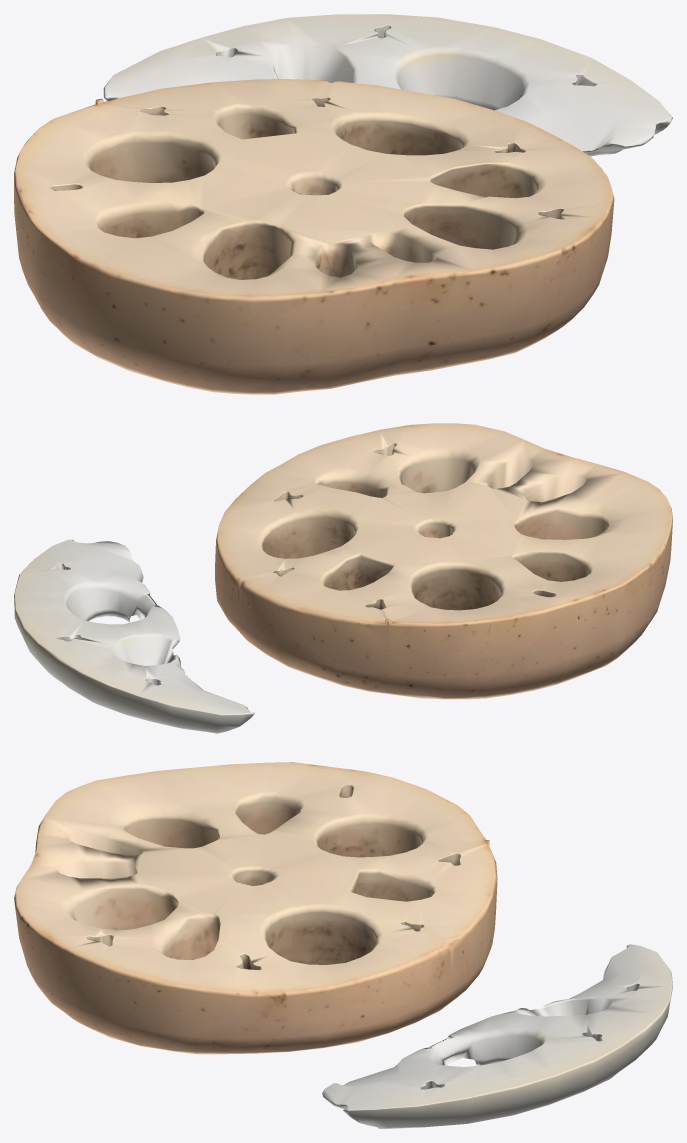
3 renders of one model, top to bottom at view 1: azimuth 30°, elevation 25°; view 2: azimuth 150°, elevation 25°; view 3: azimuth 270°, elevation 25°, orthographic. The views are drawn at different scales.
Parts seen in each view (by area): view 1: Lotus Root Slice; view 2: Lotus Root Slice; view 3: Lotus Root Slice.
Part boxes in pixels (<box>): Lotus Root Slice: <box>14,14,672,394</box>; Lotus Root Slice: <box>14,423,672,733</box>; Lotus Root Slice: <box>14,762,672,1128</box>.
Size of the model in its own units: 0.998 by 0.1699 by 0.9902.
1 material, 1 textured.
